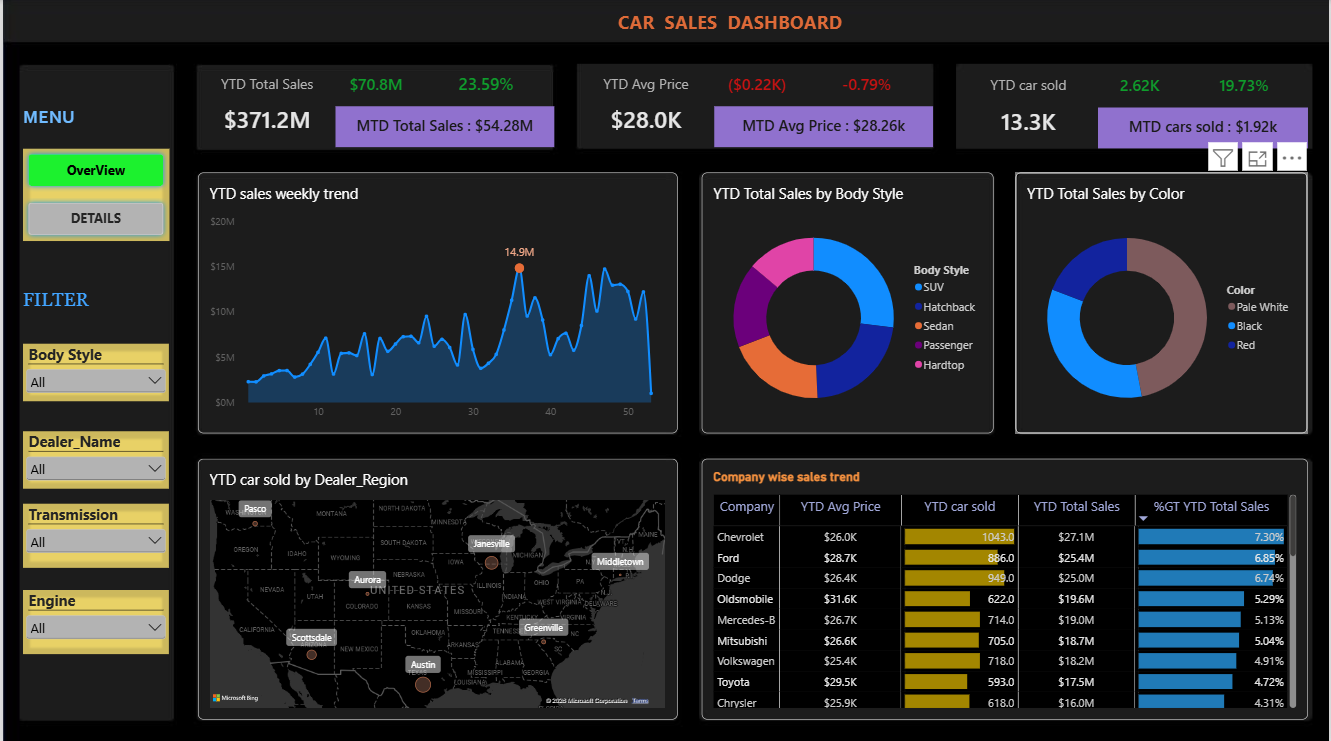

Layout of this report page (visuals, bound fields, positions):
{"tool":"powerbi","page":{"name":"OverView","canvas":[1920,1080],"ordinal":0},"visuals":[{"type":"card","title":"YTD Total Sales","fields":{"Values":["car_data.YTD Total Sales"]},"box":[281.5,92.6,200,120.4],"z":0},{"type":"card","title":"PYTD Total Sales","fields":{"Values":["car_data.Sales Difference"]},"box":[481.5,92.6,116.7,61.1],"z":1000},{"type":"card","title":"PYTD Total Sales","fields":{"Values":["car_data.YoY Sales Growth"]},"box":[598.1,92.6,200,61.1],"z":2000},{"type":"card","fields":{"Values":["car_data.MTD KPI"]},"box":[481.5,153.7,316.7,59.3],"z":3000},{"type":"card","title":"YTD Avg Price","fields":{"Values":["car_data.YTD Avg Price"]},"box":[831.5,92.6,200,120.4],"z":4000},{"type":"card","title":"PYTD Total Sales","fields":{"Values":["car_data.Avg Price Diff"]},"box":[1031.5,92.6,120.4,61.1],"z":5000},{"type":"card","title":"PYTD Total Sales","fields":{"Values":["car_data.Yoy Avg Price Growth"]},"box":[1151.9,92.6,194.4,61.1],"z":6000},{"type":"card","fields":{"Values":["car_data.MTD Avg kpi"]},"box":[1029.6,153.7,316.7,59.3],"z":7000},{"type":"card","title":"YTD car sold","fields":{"Values":["car_data.YTD car sold"]},"box":[1385.2,94.4,200,120.4],"z":8000},{"type":"card","title":"PYTD Total Sales","fields":{"Values":["car_data.Cars sold diff"]},"box":[1585.2,94.4,120.4,61.1],"z":9000},{"type":"card","title":"PYTD Total Sales","fields":{"Values":["car_data.YOY car sold grow"]},"box":[1705.6,94.4,183.3,61.1],"z":10000},{"type":"card","fields":{"Values":["car_data.MTD cars sold kpi"]},"box":[1585.2,155.6,303.7,59.3],"z":11000},{"type":"areaChart","title":"YTD sales weekly trend","fields":{"Category":["Calender Table.Week"],"Y":["Sum(car_data.Price ($))","car_data.Max point"]},"box":[281.5,250,694.4,377.8],"z":12000},{"type":"donutChart","fields":{"Category":["car_data.Body Style"],"Y":["car_data.YTD Total Sales"]},"box":[1011.1,250,422.2,377.8],"z":13000},{"type":"donutChart","fields":{"Category":["car_data.Color"],"Y":["car_data.YTD Total Sales"]},"box":[1466.7,250,422.2,377.8],"z":14000},{"type":"map","title":"YTD car sold by Dealer_Region","fields":{"Category":["car_data.Dealer_Region"],"Size":["car_data.YTD car sold"]},"box":[281.5,664.8,694.4,377.8],"z":15000},{"type":"tableEx","title":"Company wise sales trend","fields":{"Values":["car_data.Company","car_data.YTD Avg Price","car_data.YTD car sold","car_data.YTD Total Sales1","car_data.YTD Total Sales"]},"box":[1011.1,664.8,877.8,377.8],"z":16000},{"type":"textbox","box":[481.5,13,1142.6,48.1],"z":17000},{"type":"slicer","fields":{"Values":["car_data.Body Style"]},"box":[29.6,498.1,211.1,83.3],"z":18000},{"type":"slicer","fields":{"Values":["car_data.Dealer_Name"]},"box":[29.6,624.1,211.1,83.3],"z":19000},{"type":"slicer","fields":{"Values":["car_data.Transmission"]},"box":[29.6,729.6,211.1,92.6],"z":20000},{"type":"slicer","fields":{"Values":["car_data.Engine"]},"box":[29.6,853.7,211.1,92.6],"z":21000},{"type":"pageNavigator","box":[29,215.3,211.7,133.9],"z":22000},{"type":"textbox","box":[29,152,211.7,61.5],"z":22001},{"type":"textbox","box":[29,418,211.7,56.1],"z":22002}]}

Visuals, with their boxes in screenshot pixels (x1, y1, x2, y2), scaled from the page's 1920x1080 canvas onto the 1331x741 screenshot:
"YTD Total Sales" card: (195, 64, 334, 146)
"PYTD Total Sales" card: (334, 64, 415, 105)
"PYTD Total Sales" card: (415, 64, 553, 105)
card - car_data.MTD KPI: (334, 105, 553, 146)
"YTD Avg Price" card: (576, 64, 715, 146)
"PYTD Total Sales" card: (715, 64, 799, 105)
"PYTD Total Sales" card: (799, 64, 933, 105)
card - car_data.MTD Avg kpi: (714, 105, 933, 146)
"YTD car sold" card: (960, 65, 1099, 147)
"PYTD Total Sales" card: (1099, 65, 1182, 107)
"PYTD Total Sales" card: (1182, 65, 1309, 107)
card - car_data.MTD cars sold kpi: (1099, 107, 1309, 147)
"YTD sales weekly trend" areaChart: (195, 172, 677, 431)
donutChart - car_data.Body Style x car_data.YTD Total Sales: (701, 172, 994, 431)
donutChart - car_data.Color x car_data.YTD Total Sales: (1017, 172, 1309, 431)
"YTD car sold by Dealer_Region" map: (195, 456, 677, 715)
"Company wise sales trend" tableEx: (701, 456, 1309, 715)
textbox: (334, 9, 1126, 42)
slicer - car_data.Body Style: (21, 342, 167, 399)
slicer - car_data.Dealer_Name: (21, 428, 167, 485)
slicer - car_data.Transmission: (21, 501, 167, 564)
slicer - car_data.Engine: (21, 586, 167, 649)
pageNavigator: (20, 148, 167, 240)
textbox: (20, 104, 167, 146)
textbox: (20, 287, 167, 325)
